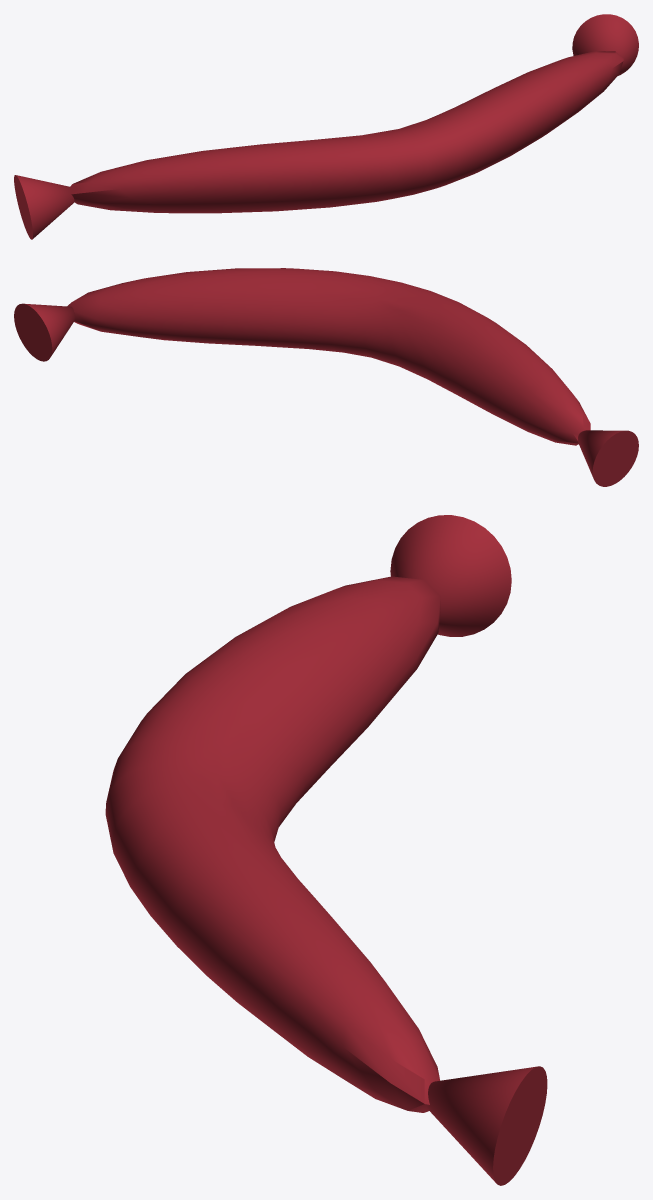
The model's file is Sausage 1.fbx.
3 views of the same model, one above another, from view 1: azimuth 30°, elevation 25°; view 2: azimuth 150°, elevation 25°; view 3: azimuth 270°, elevation 25° (orthographic). The views are drawn at different scales.
Visible parts, largest first — view 1: Sausage; view 2: Sausage; view 3: Sausage.
Boxes of the visible parts, box(x1,y1,x2,y2) form: Sausage: box(14, 14, 638, 239); Sausage: box(14, 268, 638, 486); Sausage: box(105, 515, 547, 1185).
Size of the model in its own units: 437 by 55.08 by 140.
